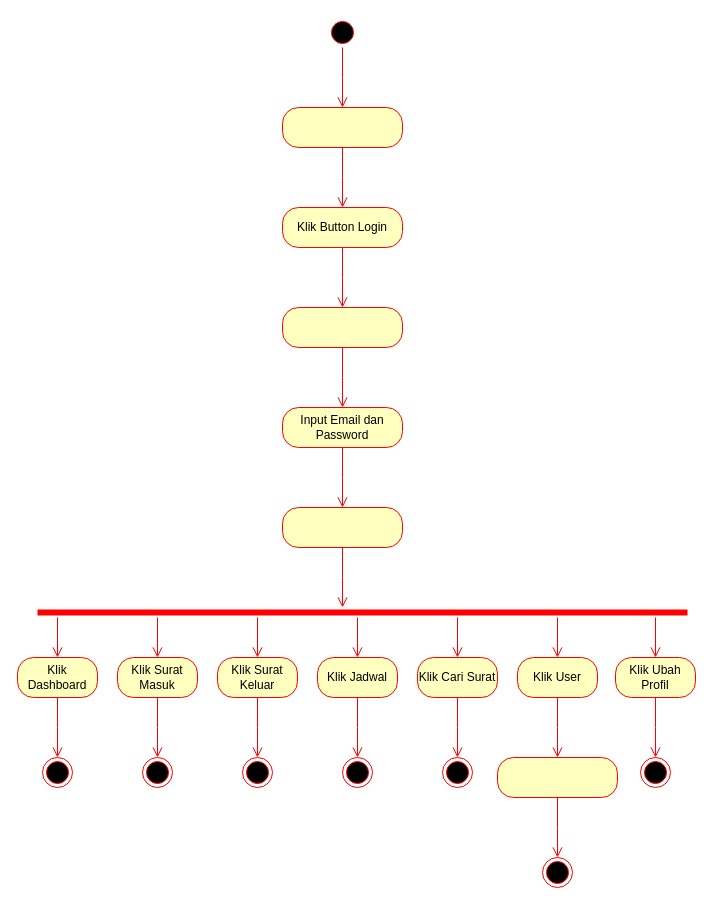
The diagram is 713 pixels wide and 905 high, and some of its shapes have lost their labels. Each missing label, with the centre of its shape:
Halaman Login: point 342,327
Masukan URL: point 342,127
Menambahkan User: point 557,777
Tampil Dashboard Admin: point 342,527
